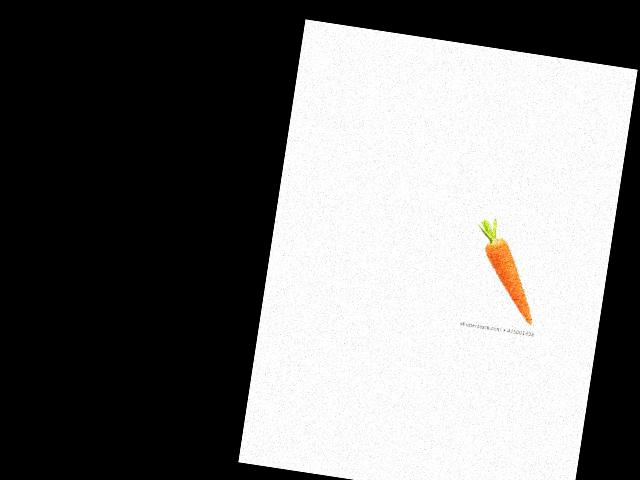carrot: (472, 233, 547, 329)
